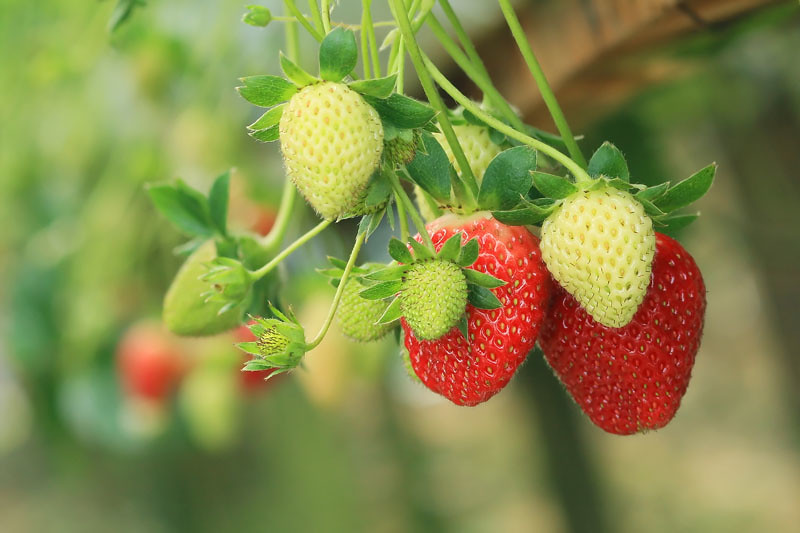ripe_strawberry: (535, 230, 710, 438), (397, 208, 552, 410)
unripe_strawberry: (537, 186, 658, 330), (277, 79, 387, 224), (413, 103, 528, 224), (162, 231, 278, 340), (397, 257, 471, 340), (333, 262, 401, 343), (254, 321, 307, 371)
